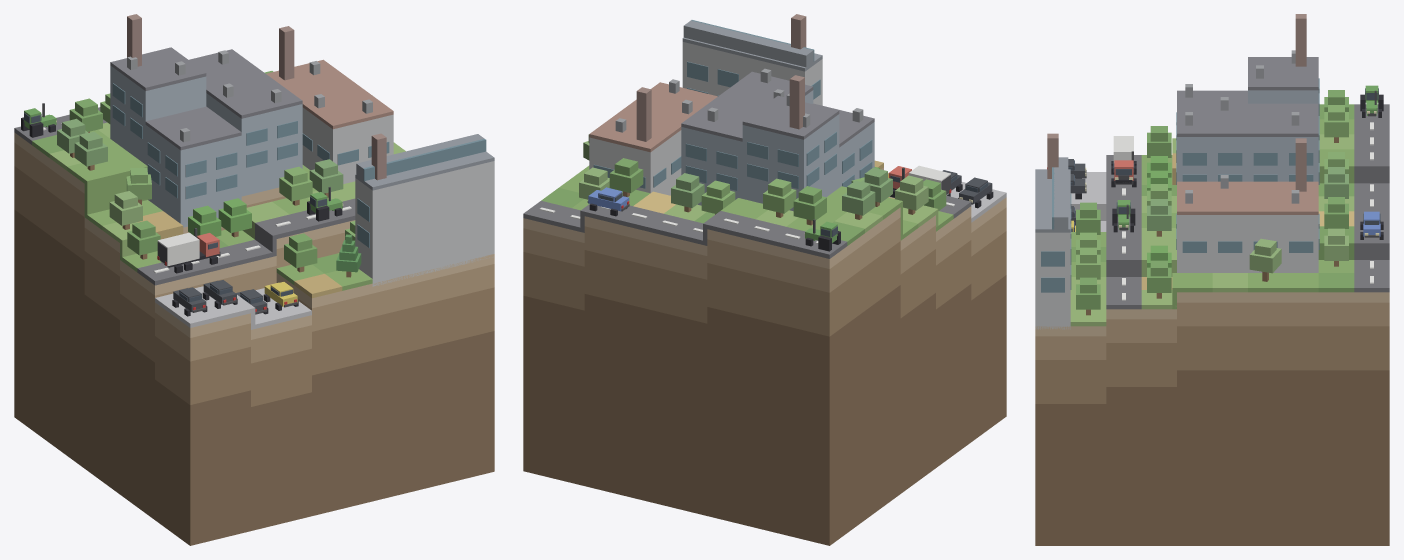
File: block_11_wetlands_0.glb
The picture shows the model from 3 angles, left to right: view 1: azimuth 30°, elevation 25°; view 2: azimuth 150°, elevation 25°; view 3: azimuth 270°, elevation 25°; orthographic projection.
Parts seen in each view (by area): view 1: Patch_LowerLeft_b12_WL, Factories_LowerLeft_b12_WL, Ground_LowerLeft_b12_WL, Roads_LowerLeft_b12_WL, Parking_LowerLeft_b12_WL, Asset_Truck.004_WL, Asset_Tree_Round.040_WL, Asset_Tree_Round.066_WL, Asset_Tree_Round.046_WL, Asset_Tree_Round.053_WL, Asset_Tree_Round.052_WL, Asset_Tree_Round.050_WL (+11 smaller); view 2: Patch_LowerLeft_b12_WL, Factories_LowerLeft_b12_WL, Ground_LowerLeft_b12_WL, Roads_LowerLeft_b12_WL, Asset_Tree_Round.034_WL, Asset_Tree_Round.038_WL, Asset_Tree_Round.030_WL, Asset_Tree_Round.033_WL, Asset_Tree_Round.031_WL, Asset_Tree_Round.046_WL, Asset_Truck.004_WL, Asset_Tree_Round.032_WL (+6 smaller); view 3: Patch_LowerLeft_b12_WL, Factories_LowerLeft_b12_WL, Ground_LowerLeft_b12_WL, Roads_LowerLeft_b12_WL, Asset_Truck.004_WL, Parking_LowerLeft_b12_WL, Asset_Tree_Round.016_WL, Asset_Tree_Round.056_WL, Asset_Tree_Round.035_WL, Asset_Tree_Round.069_WL, Asset_Tree_Round.031_WL, Asset_Tree_Round.054_WL (+8 smaller).
Boxes of the visible parts, x1,y1,x2,y2 form: Patch_LowerLeft_b12_WL: (14, 132, 494, 545); Factories_LowerLeft_b12_WL: (110, 14, 494, 286); Ground_LowerLeft_b12_WL: (32, 122, 405, 298); Roads_LowerLeft_b12_WL: (14, 107, 355, 285); Parking_LowerLeft_b12_WL: (155, 286, 311, 329); Asset_Truck.004_WL: (157, 228, 220, 273); Asset_Tree_Round.040_WL: (74, 131, 107, 170); Asset_Tree_Round.066_WL: (284, 233, 317, 272); Asset_Tree_Round.046_WL: (109, 191, 142, 229); Asset_Tree_Round.053_WL: (279, 166, 312, 205); Asset_Tree_Round.052_WL: (218, 198, 251, 237); Asset_Tree_Round.050_WL: (127, 220, 160, 259); Patch_LowerLeft_b12_WL: (523, 167, 1006, 545); Factories_LowerLeft_b12_WL: (589, 14, 874, 211); Ground_LowerLeft_b12_WL: (541, 160, 953, 245); Roads_LowerLeft_b12_WL: (523, 196, 971, 258); Asset_Tree_Round.034_WL: (609, 158, 643, 197); Asset_Tree_Round.038_WL: (842, 180, 875, 219); Asset_Tree_Round.030_WL: (793, 186, 826, 225); Asset_Tree_Round.033_WL: (671, 173, 704, 212); Asset_Tree_Round.031_WL: (763, 178, 796, 217); Asset_Tree_Round.046_WL: (895, 175, 928, 214); Asset_Truck.004_WL: (888, 165, 951, 197); Asset_Tree_Round.032_WL: (701, 180, 735, 214); Patch_LowerLeft_b12_WL: (1035, 292, 1389, 545); Factories_LowerLeft_b12_WL: (1035, 14, 1319, 329); Ground_LowerLeft_b12_WL: (1070, 104, 1354, 326); Roads_LowerLeft_b12_WL: (1106, 104, 1389, 309); Asset_Truck.004_WL: (1111, 136, 1136, 187); Parking_LowerLeft_b12_WL: (1071, 172, 1106, 231); Asset_Tree_Round.016_WL: (1249, 238, 1281, 281); Asset_Tree_Round.056_WL: (1147, 260, 1171, 298); Asset_Tree_Round.035_WL: (1324, 228, 1348, 266); Asset_Tree_Round.069_WL: (1076, 277, 1100, 315); Asset_Tree_Round.031_WL: (1324, 105, 1348, 142); Asset_Tree_Round.054_WL: (1147, 199, 1171, 236).
Bounding box in the file's own units: 9.52 × 12.34 × 9.5.
